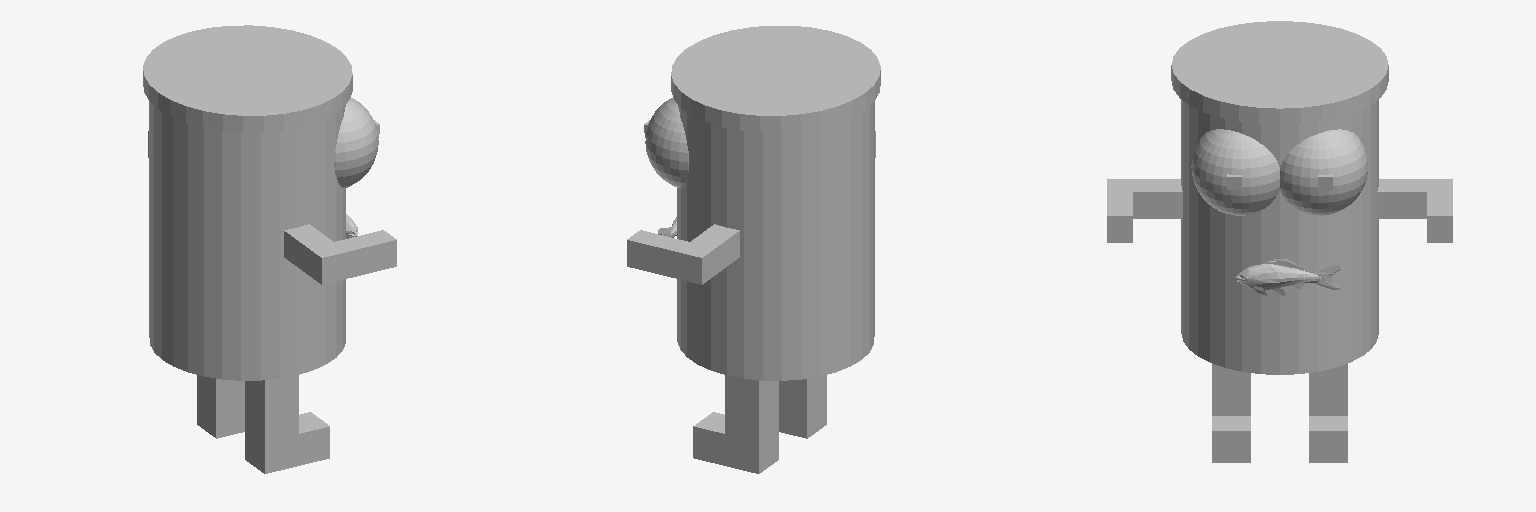
File: player.obj
3 views of the same model, side by side, from view 1: azimuth 30°, elevation 25°; view 2: azimuth 150°, elevation 25°; view 3: azimuth 270°, elevation 25° (orthographic).
Visible parts, largest first — view 1: Sphere.017; view 2: Sphere.017; view 3: Sphere.017.
Boxes of the visible parts, x1,y1,x2,y2 form: Sphere.017: [143, 25, 396, 473]; Sphere.017: [627, 26, 880, 473]; Sphere.017: [1107, 21, 1452, 462].
Size of the model in its own units: 4.58 by 8.37 by 7.02.